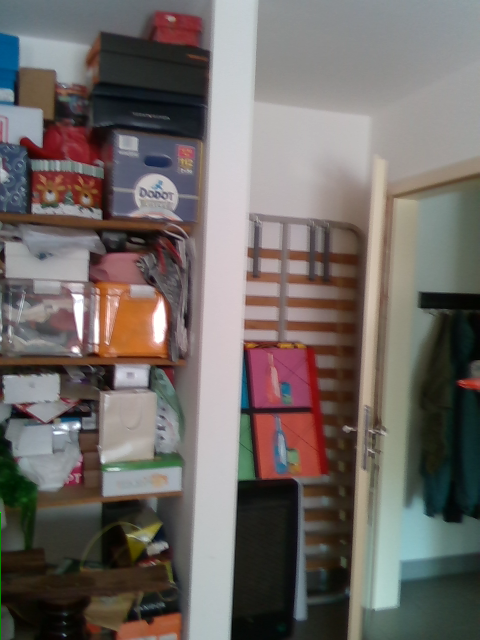semi: (344, 155, 479, 636)
